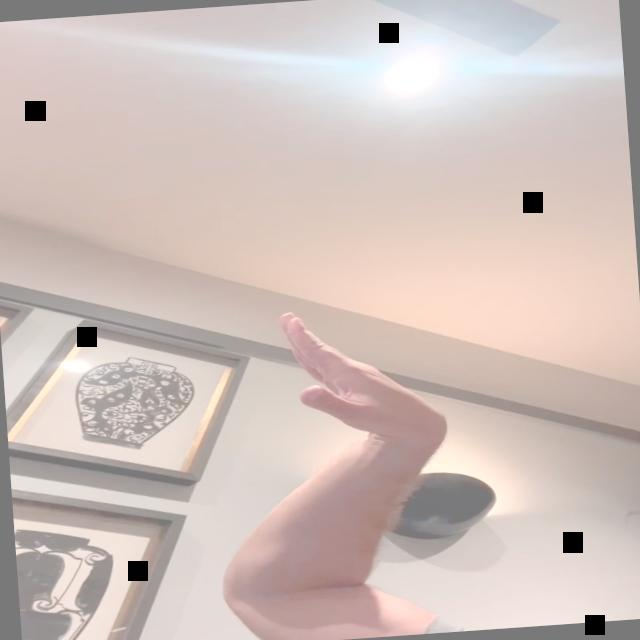Paper: (277, 302, 454, 459)
